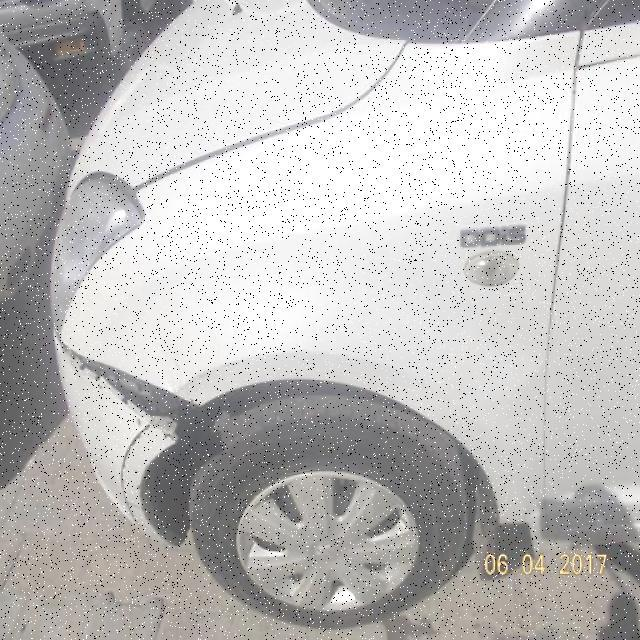car damage: (58, 336, 201, 448), (117, 417, 157, 531)
